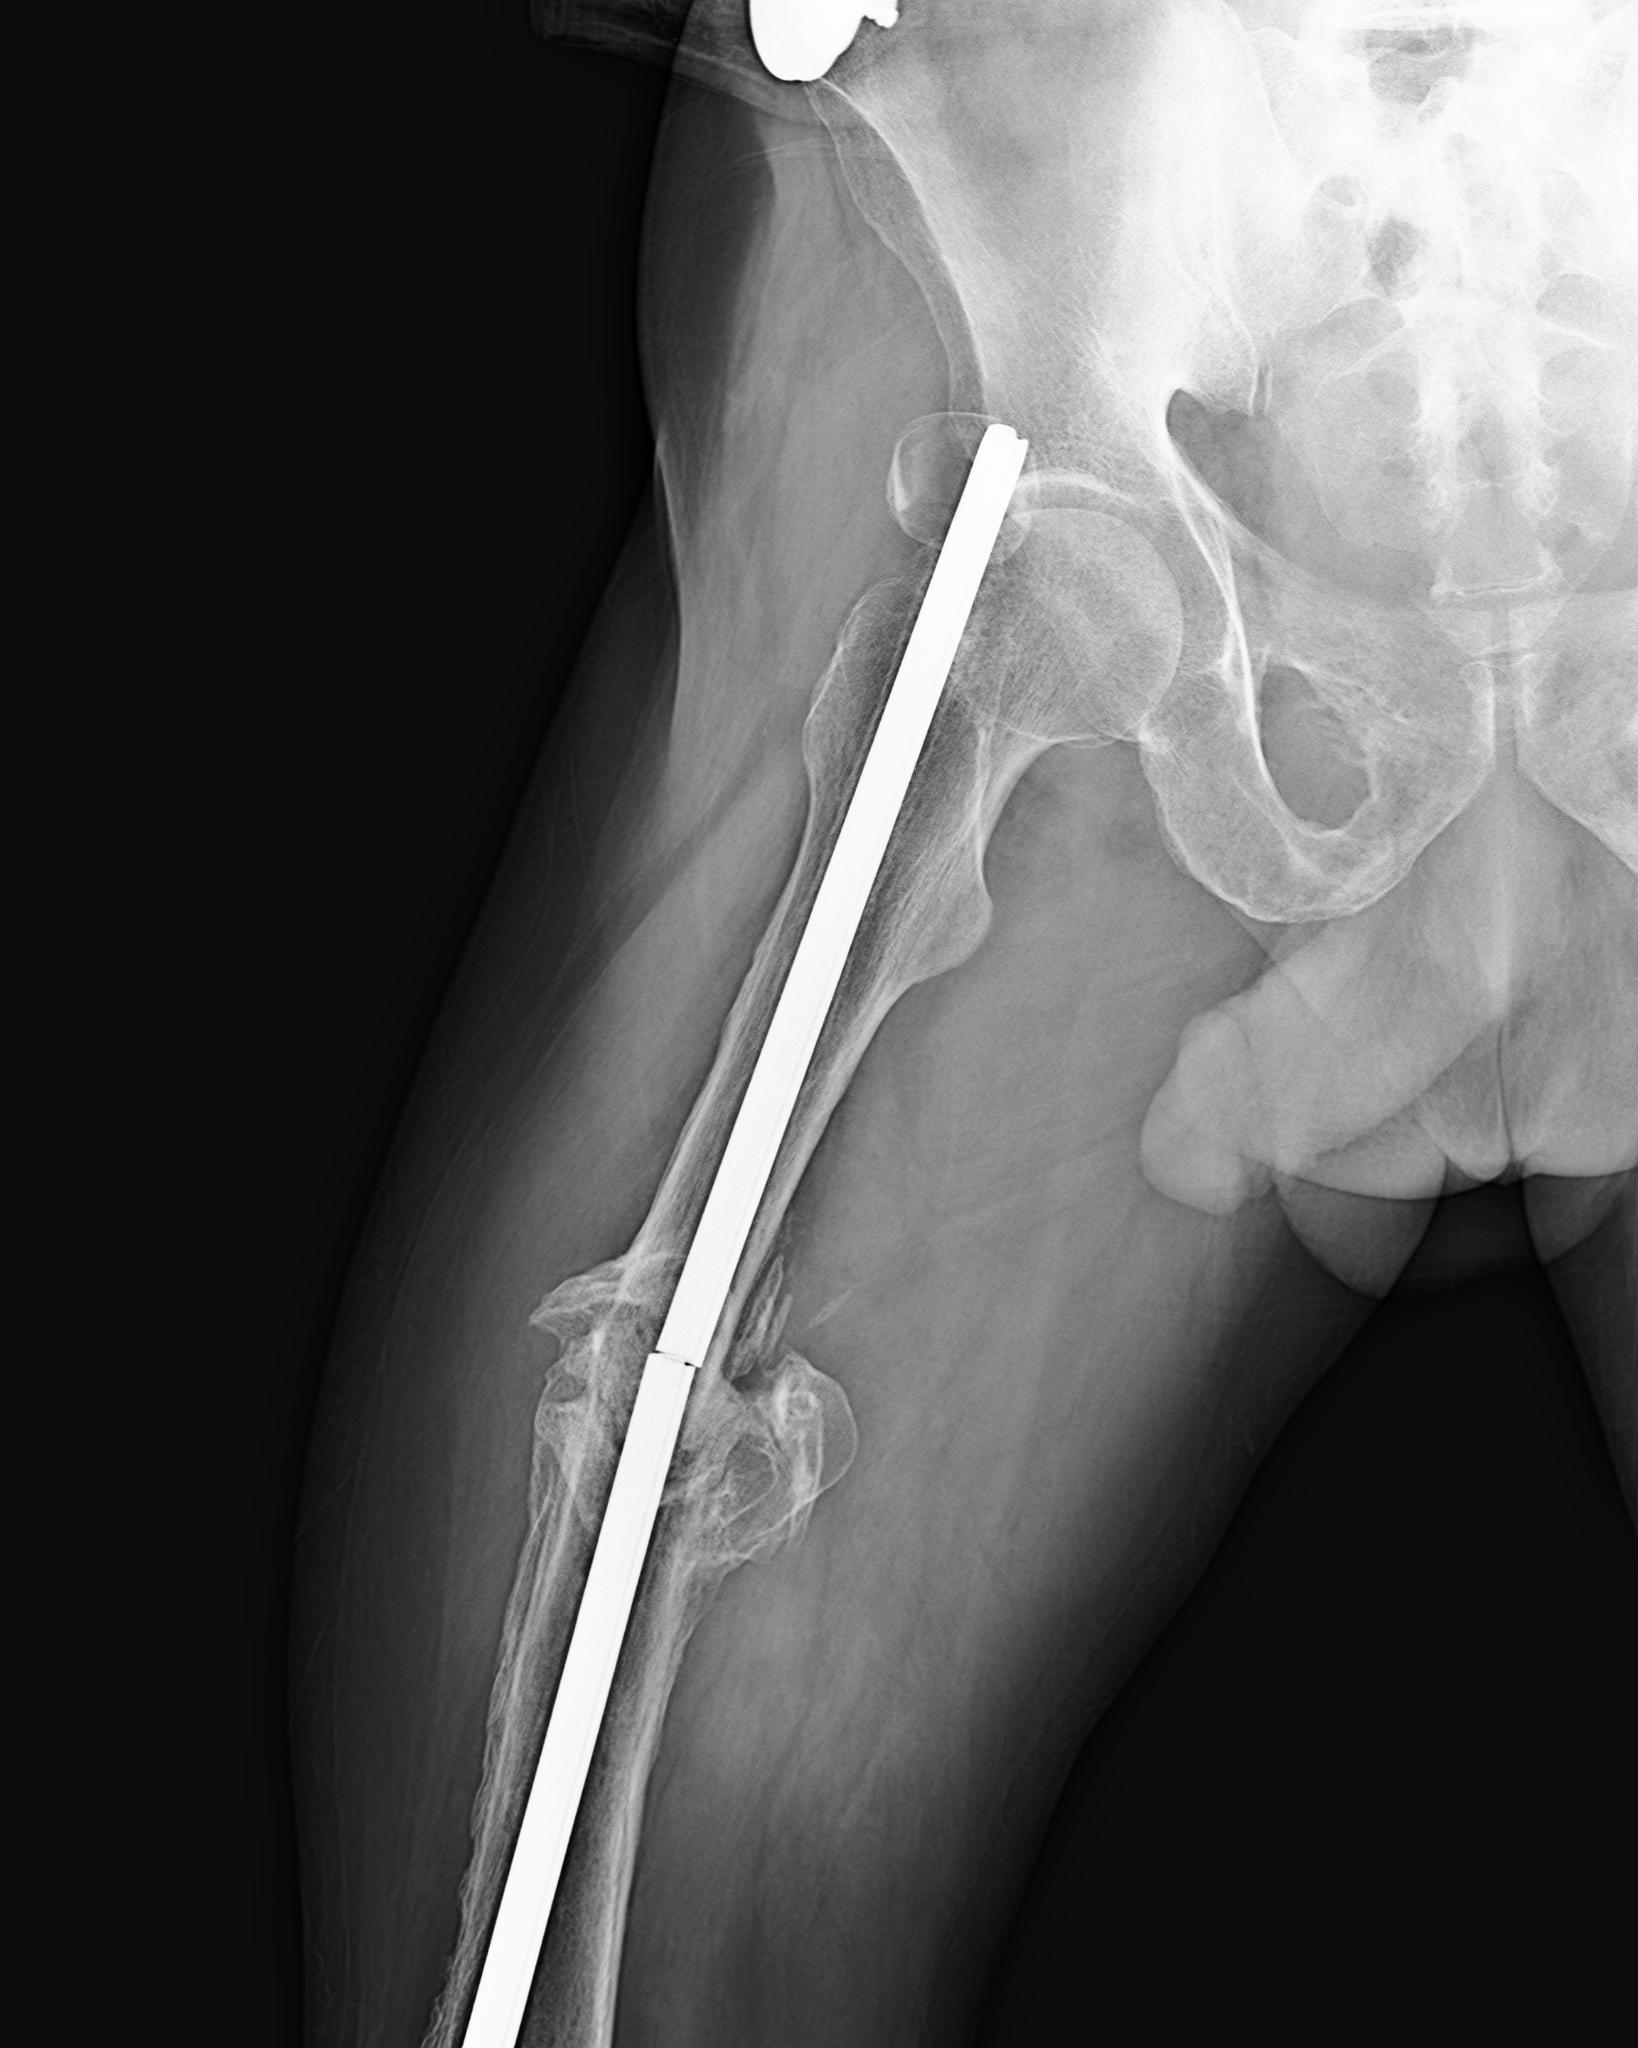fractured: (516, 1235, 867, 1585)
